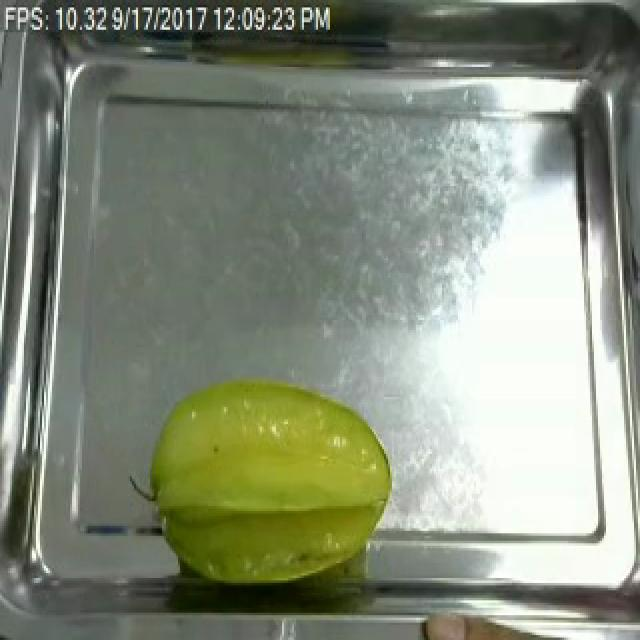fruit: (134, 365, 402, 600)
